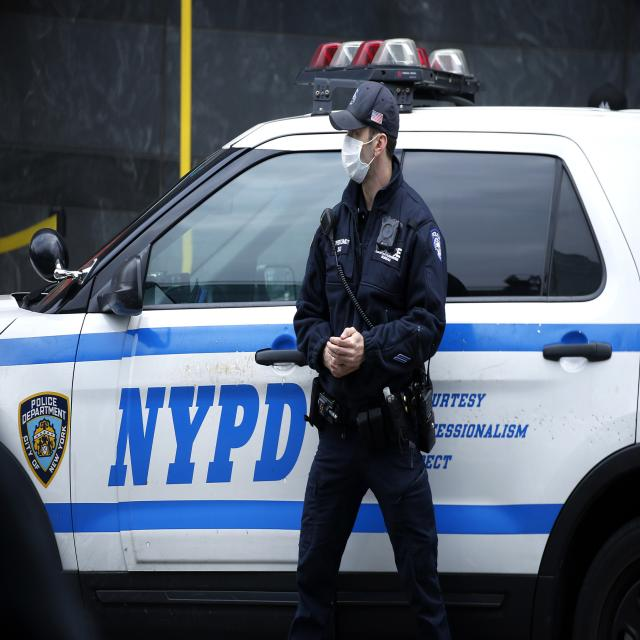police: (288, 64, 480, 640)
